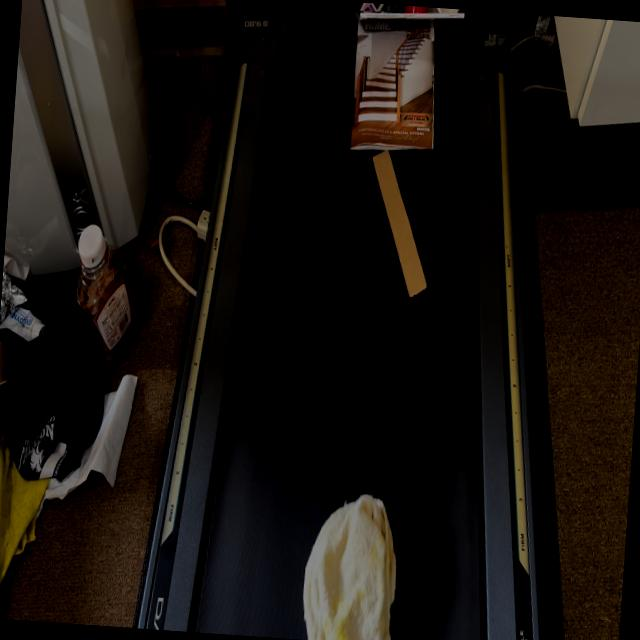Recycle: (346, 147, 446, 305)
Trash: (284, 470, 428, 640), (324, 0, 456, 160)
